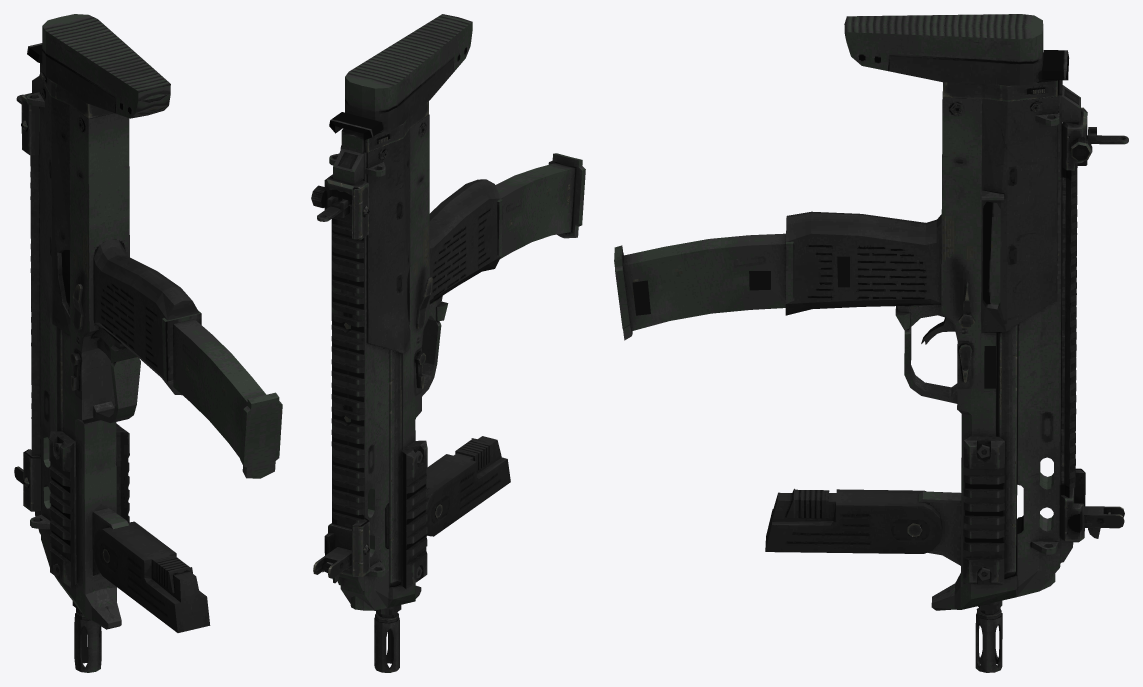
The model's file is w_smg_mp7.obj.
3 views of the same model, side by side, from view 1: azimuth 30°, elevation 25°; view 2: azimuth 150°, elevation 25°; view 3: azimuth 270°, elevation 25° (orthographic). The views are drawn at different scales.
Size of the model in its own units: 0.0173 by 0.1574 by 0.1145.
1 material, 1 textured.
